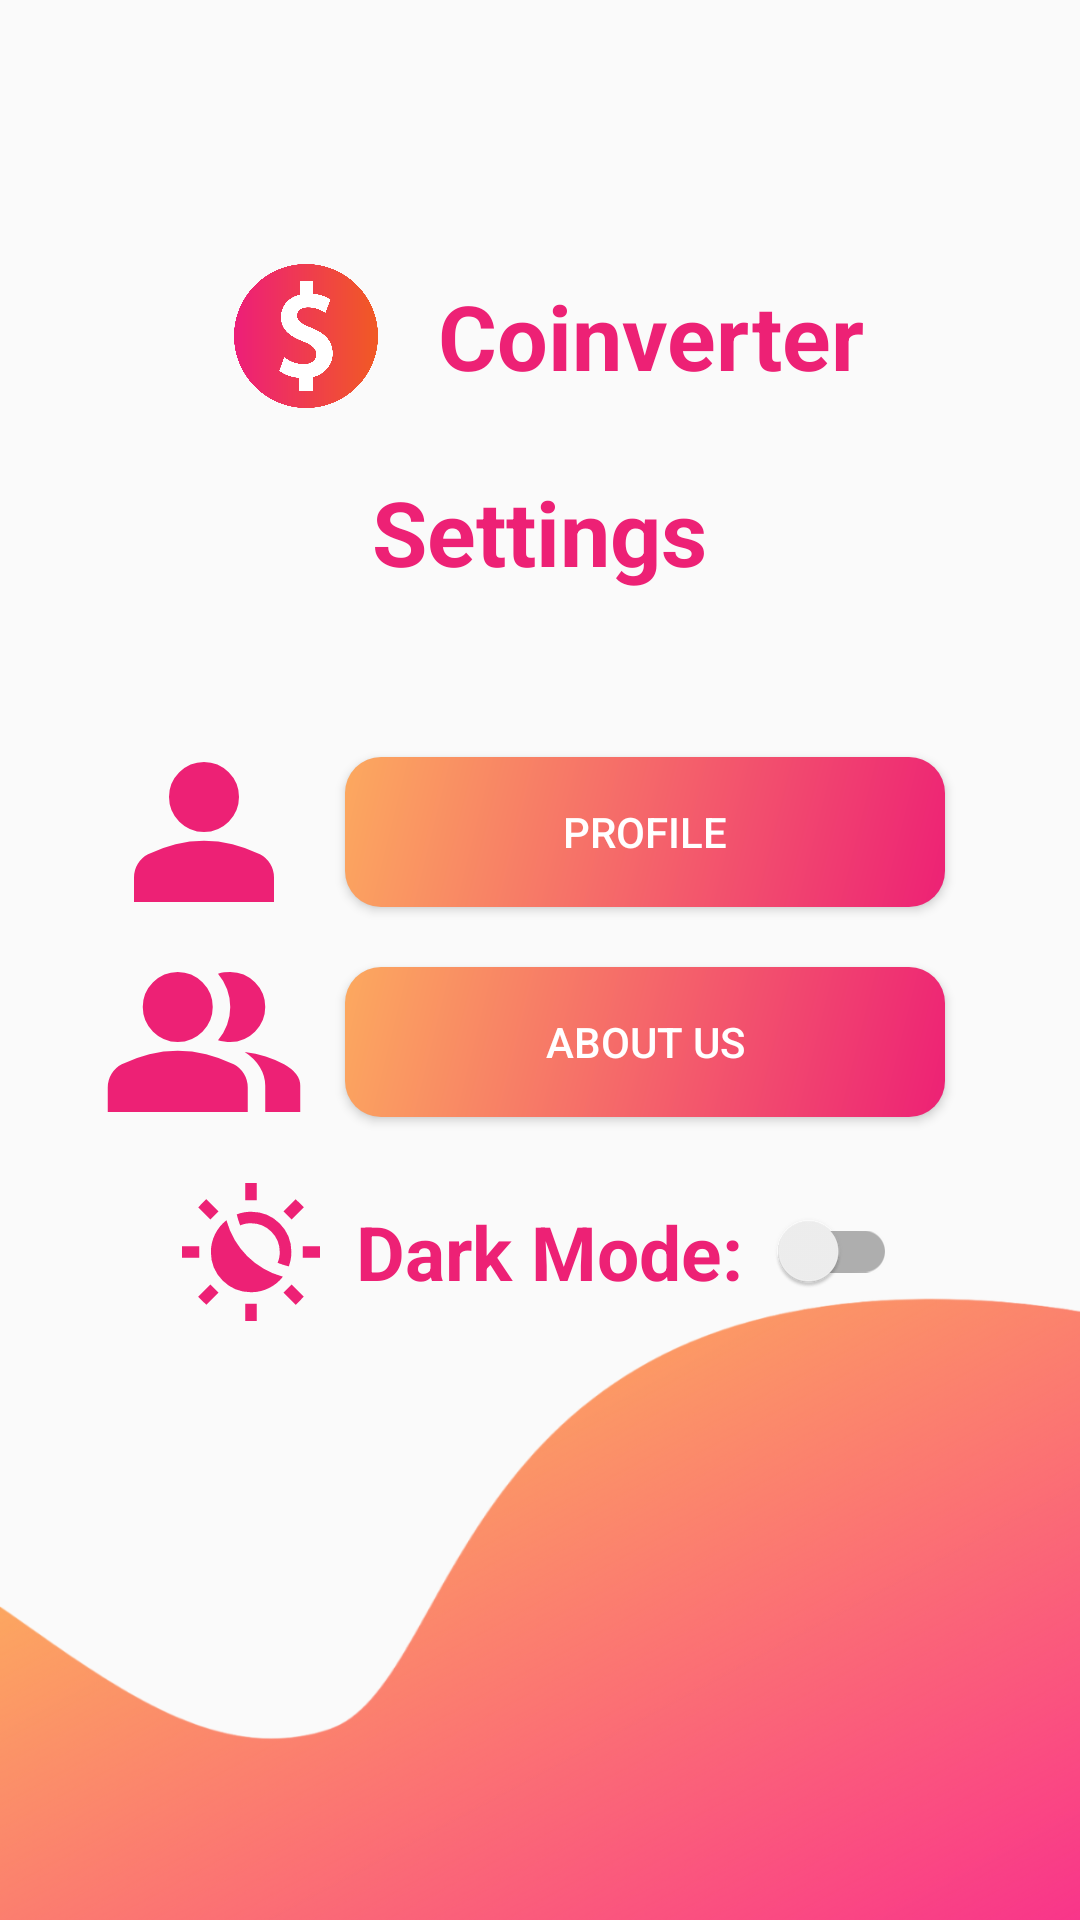

Screen size 1080x1920. Icon name, then its box in pixels as (x1, y1, x2, y2):
person: (134, 762, 274, 902)
